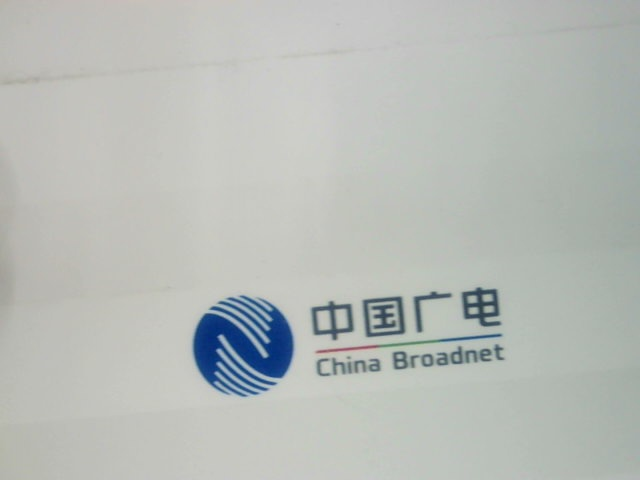AW_ChinaBroadNet: (181, 274, 534, 397)
